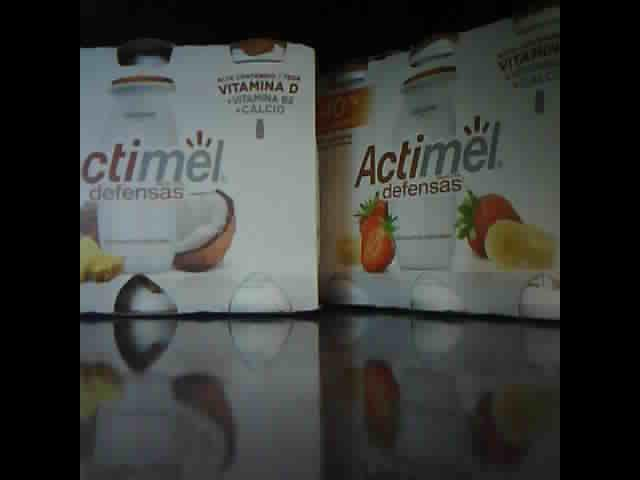actimel: (318, 5, 560, 324), (80, 42, 324, 315)
